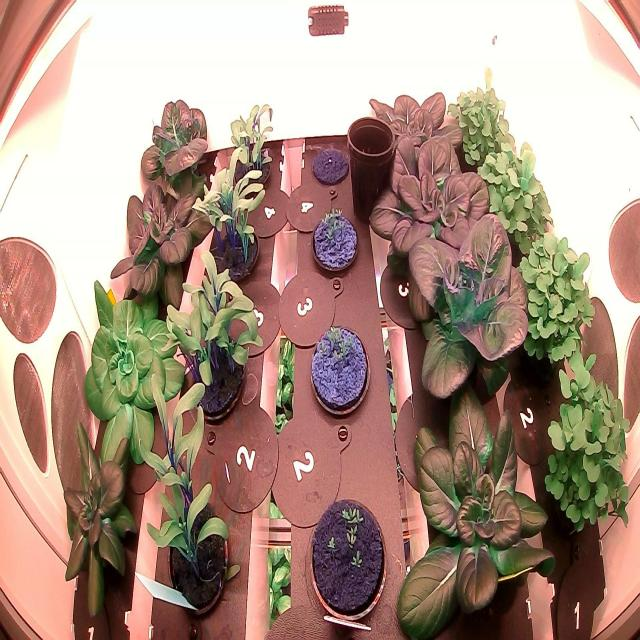germination: (304, 489, 391, 626), (307, 319, 376, 426), (309, 199, 362, 279)
pod: (308, 133, 354, 192)
young: (388, 367, 566, 640), (398, 205, 540, 417), (77, 260, 192, 489), (366, 131, 500, 287), (50, 411, 144, 628), (101, 159, 216, 323), (361, 84, 472, 202), (134, 78, 220, 211)
